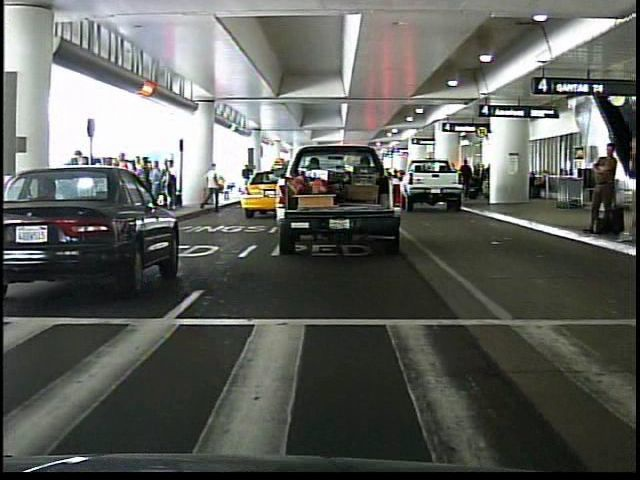person: (580, 132, 619, 244), (112, 151, 138, 222), (202, 159, 225, 214), (241, 162, 257, 195)
